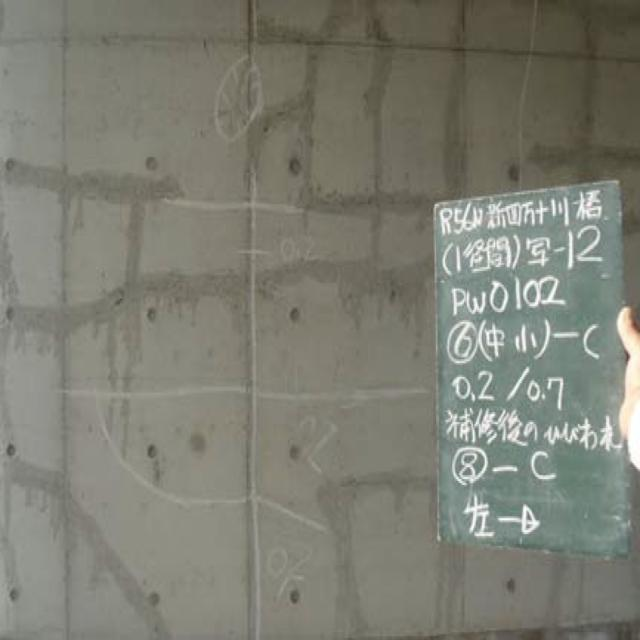freelime: (200, 47, 274, 147)
